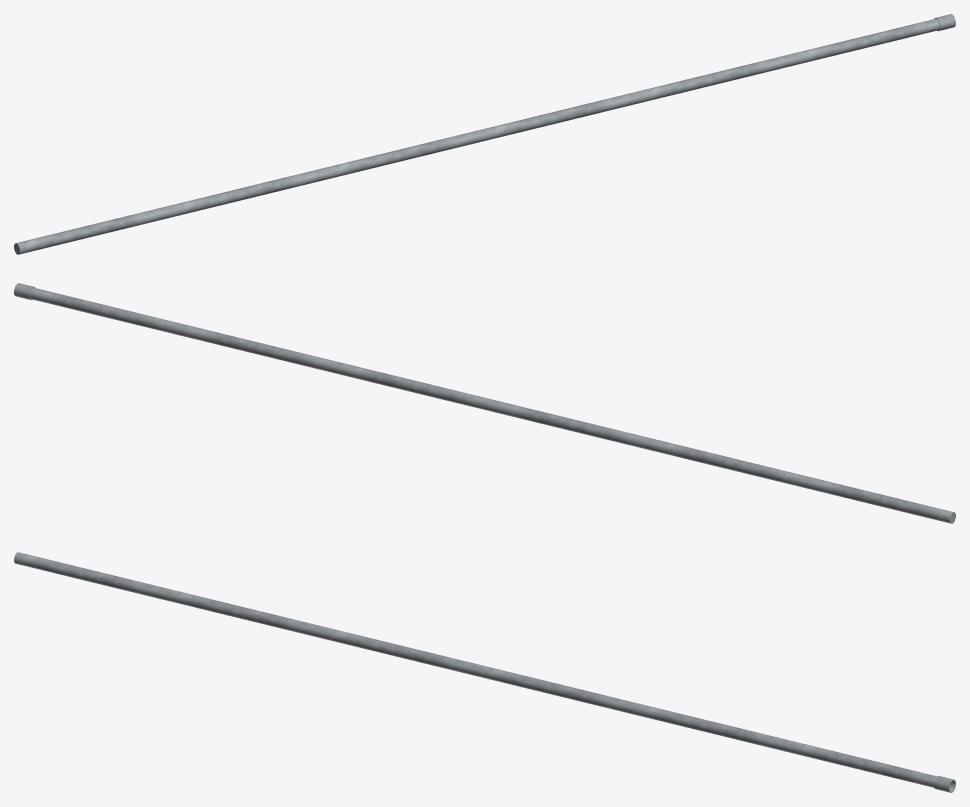
File: ELE-ELD-004.glb
The picture shows the model from 3 angles, top to bottom: view 1: azimuth 30°, elevation 25°; view 2: azimuth 150°, elevation 25°; view 3: azimuth 330°, elevation 25°; orthographic projection.
Visible parts, largest first — view 1: ELE-ELD-004_barra; view 2: ELE-ELD-004_barra; view 3: ELE-ELD-004_barra.
Part boxes in pixels (box(x1,y1,x2,y2)): ELE-ELD-004_barra: box(14, 18, 939, 254); ELE-ELD-004_barra: box(30, 287, 955, 523); ELE-ELD-004_barra: box(14, 552, 936, 787).
Bounding box in the file's own units: 3 × 0.038 × 0.038.
1 material, 1 textured.
